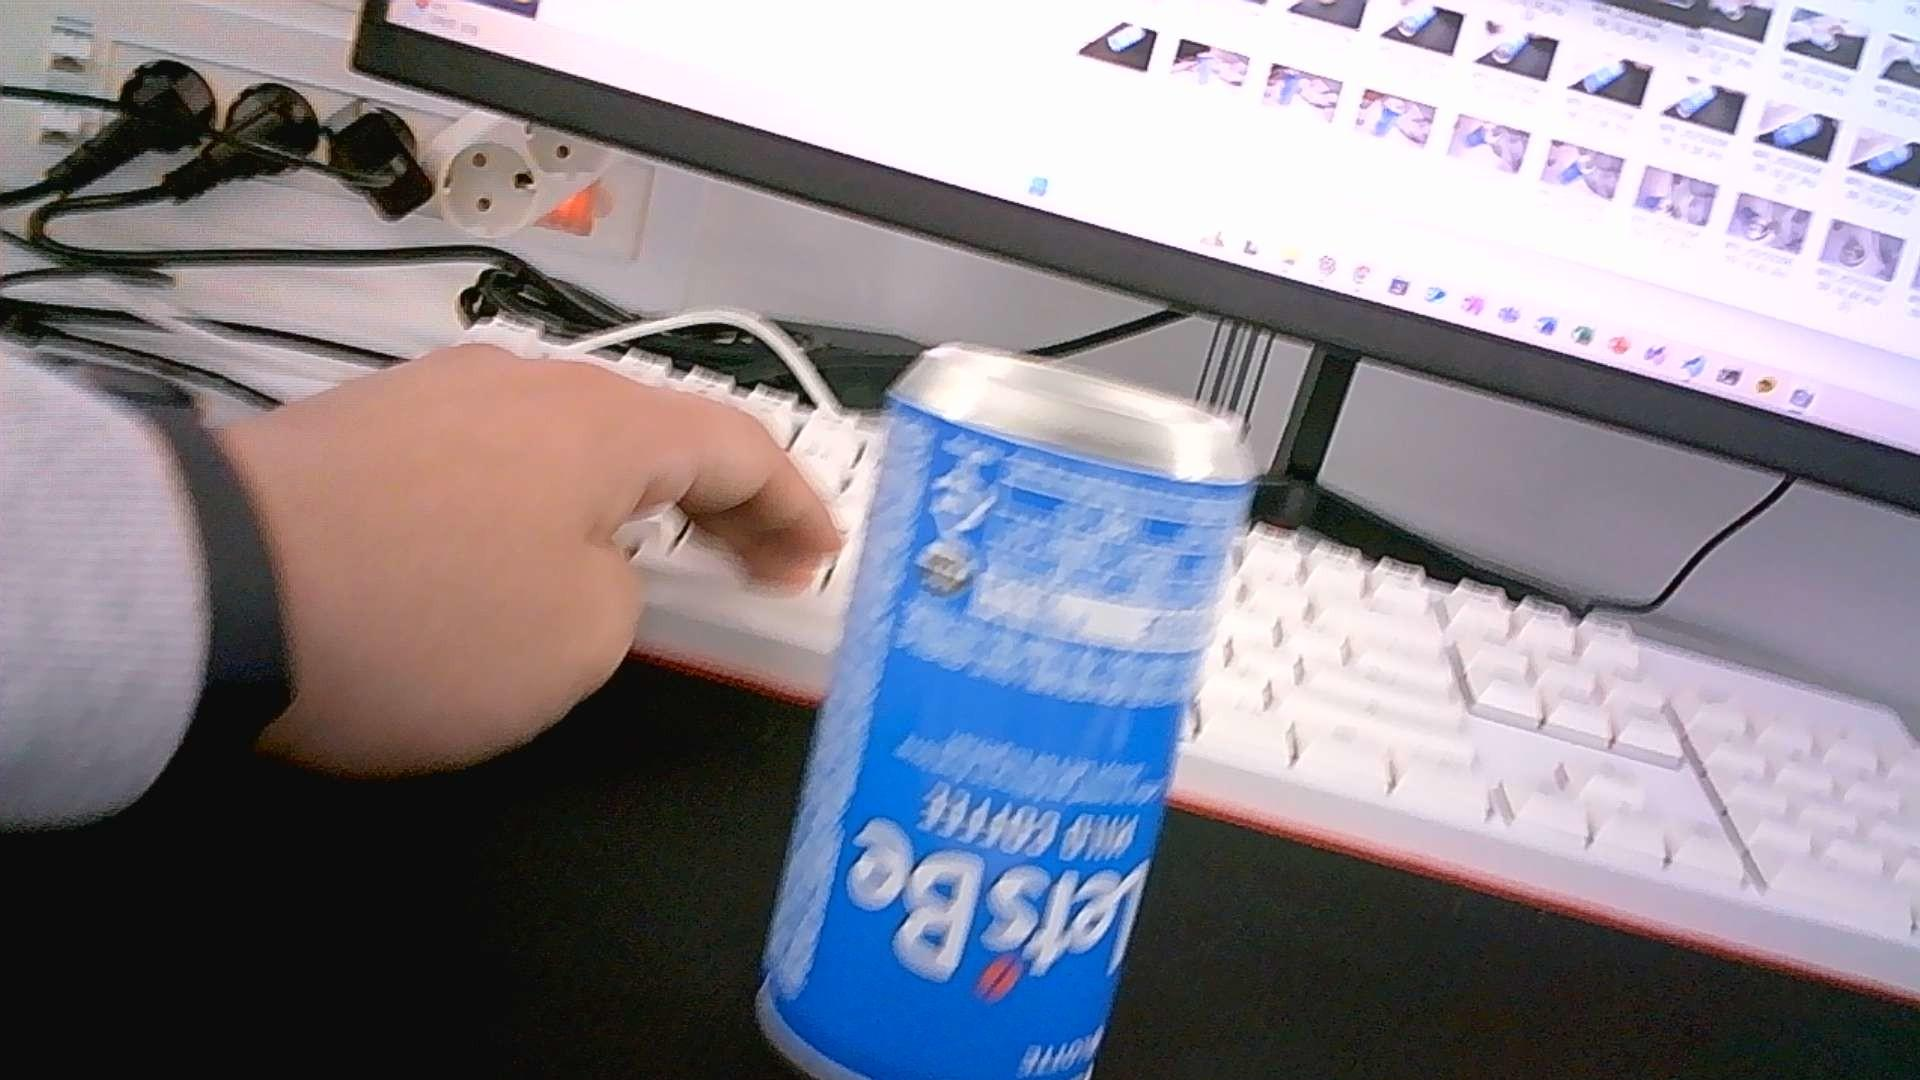letsbe: (753, 339, 1262, 1080)
